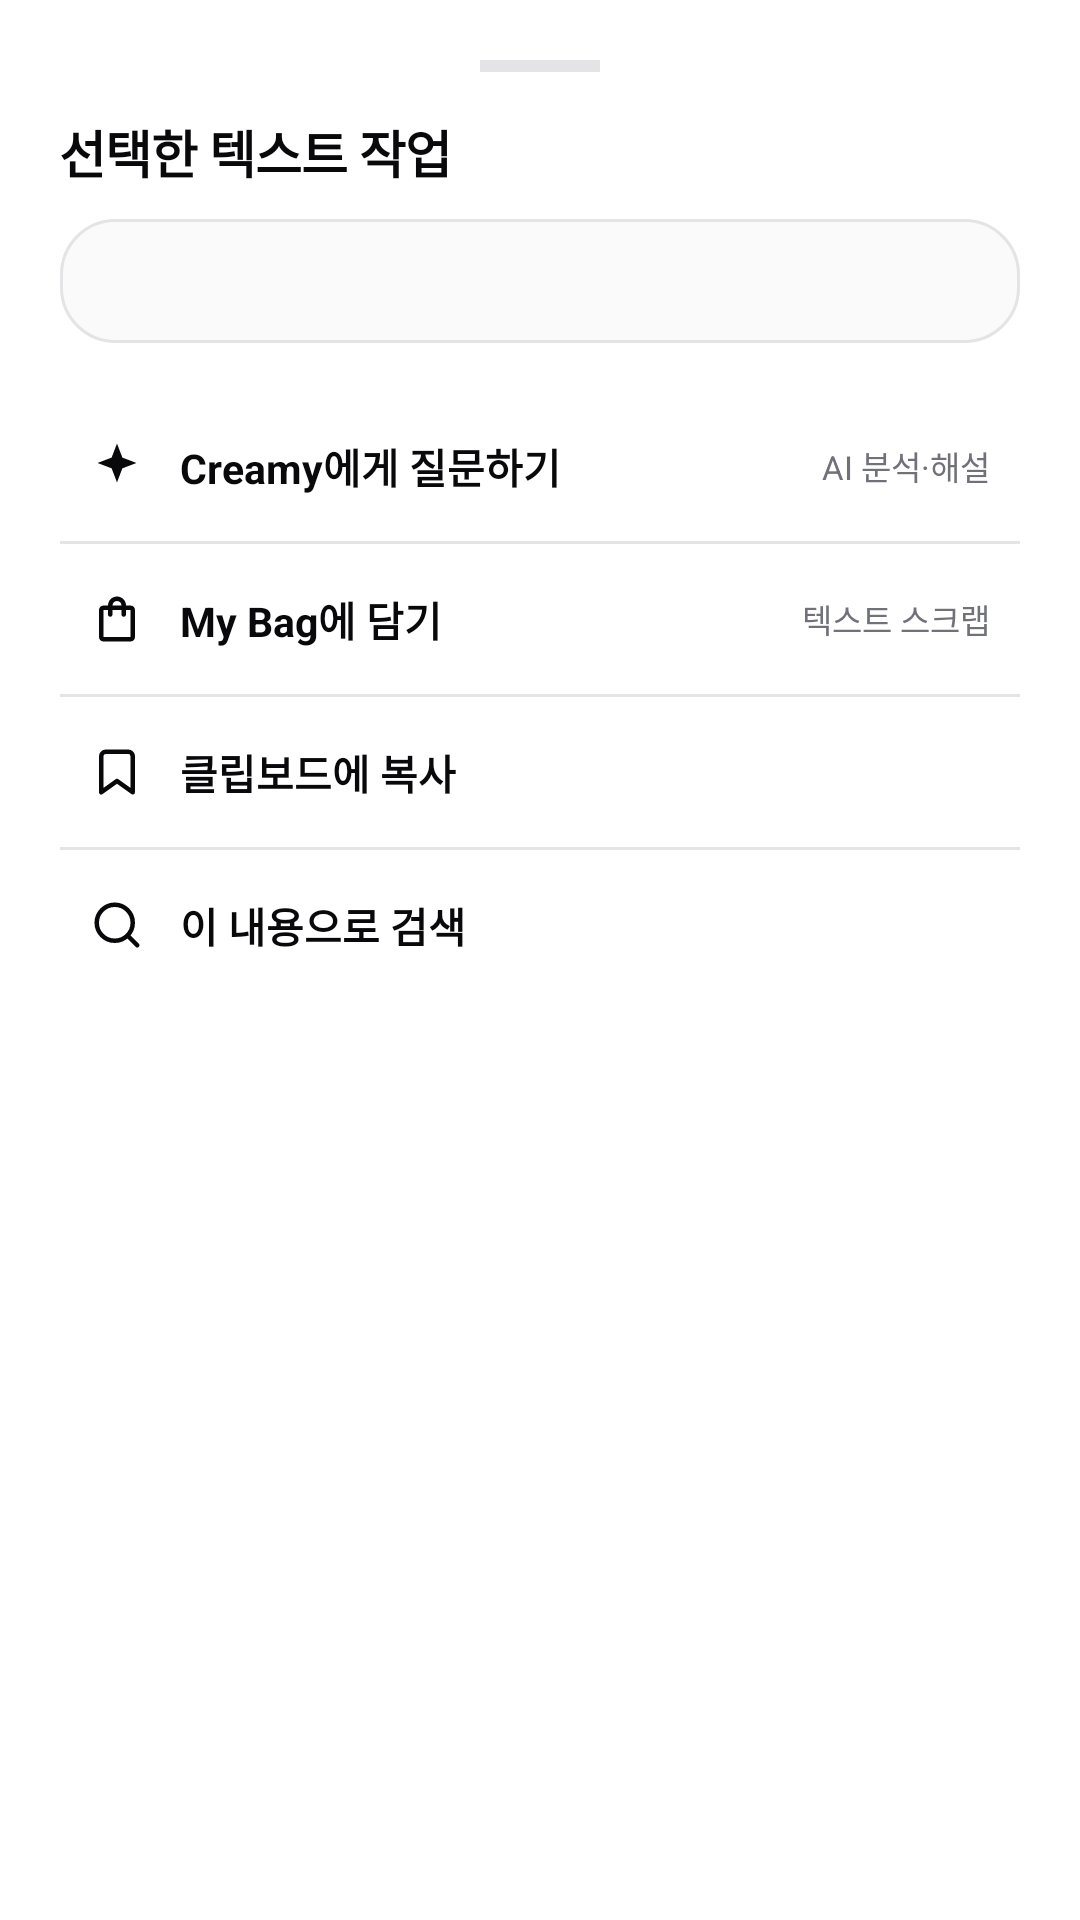

Named icons in this screenshot (1080w x 1920h) and their centers, point (x, y):
bag: point (117, 619)
bookmark: point (117, 772)
search: point (117, 925)
sparkles: point (117, 463)
